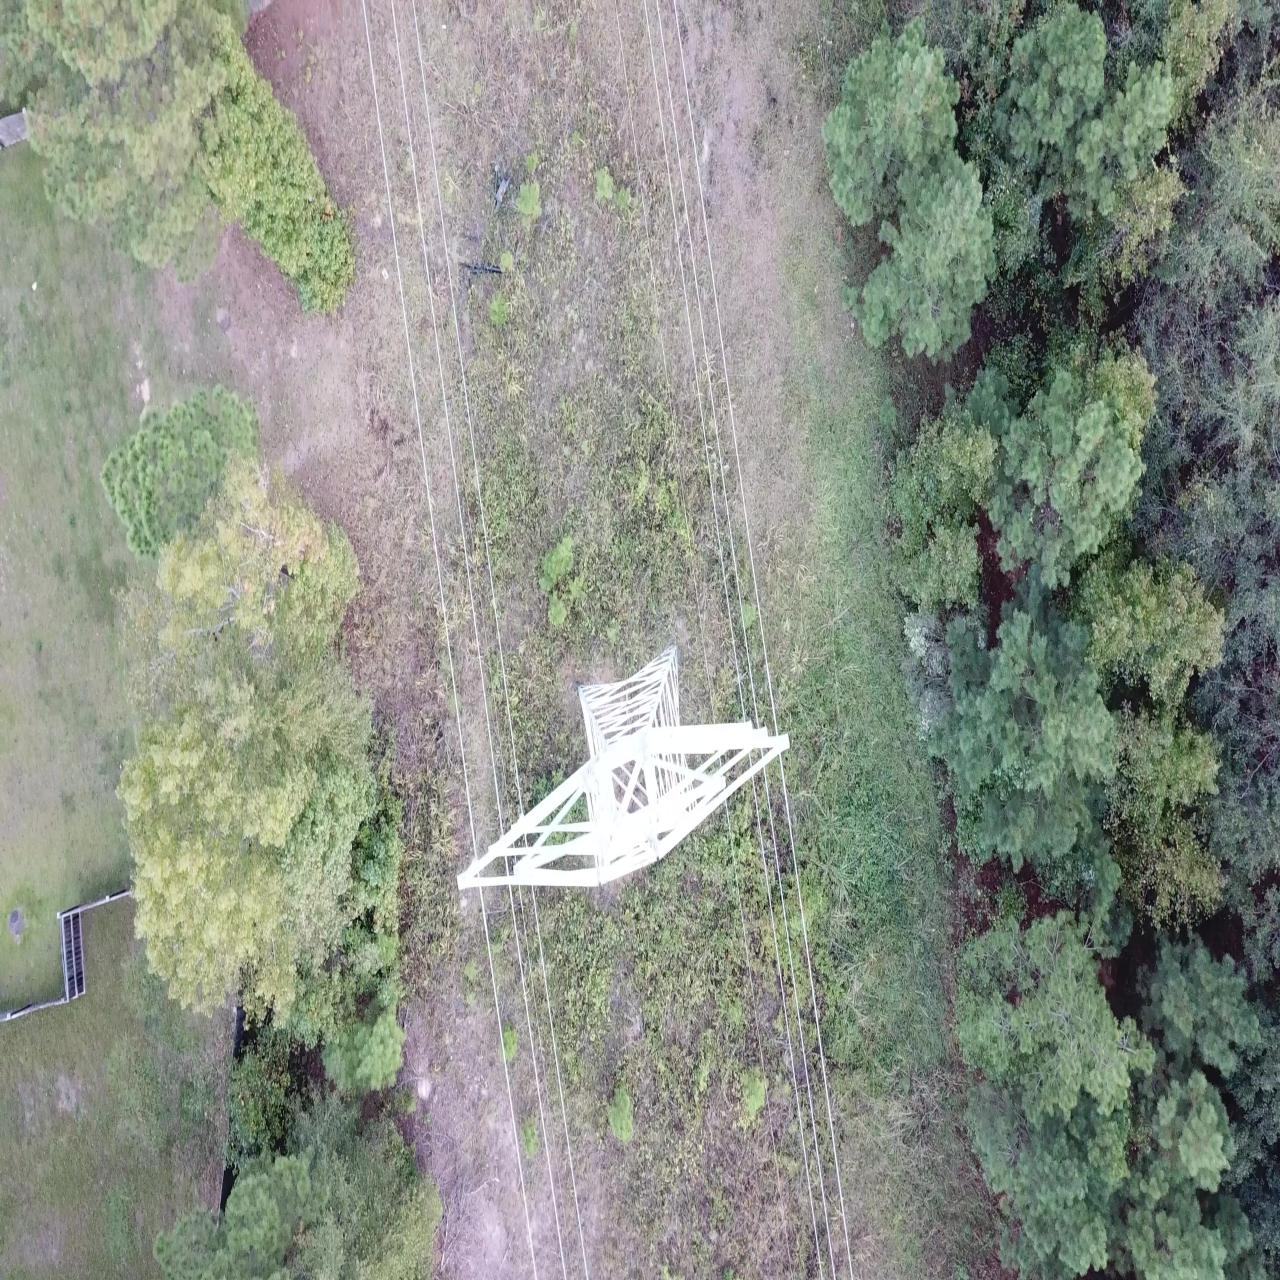cable: (362, 0, 478, 862), (392, 0, 504, 838), (399, 0, 511, 824), (413, 0, 524, 815), (674, 0, 778, 735), (656, 0, 760, 729), (644, 0, 745, 722), (614, 0, 715, 724), (779, 753, 853, 1279), (763, 765, 836, 1279), (753, 776, 823, 1279), (726, 799, 794, 1279), (509, 885, 566, 1279), (479, 887, 537, 1279), (532, 886, 588, 1279), (518, 885, 573, 1279)
tower_lattice: (456, 644, 790, 891)
